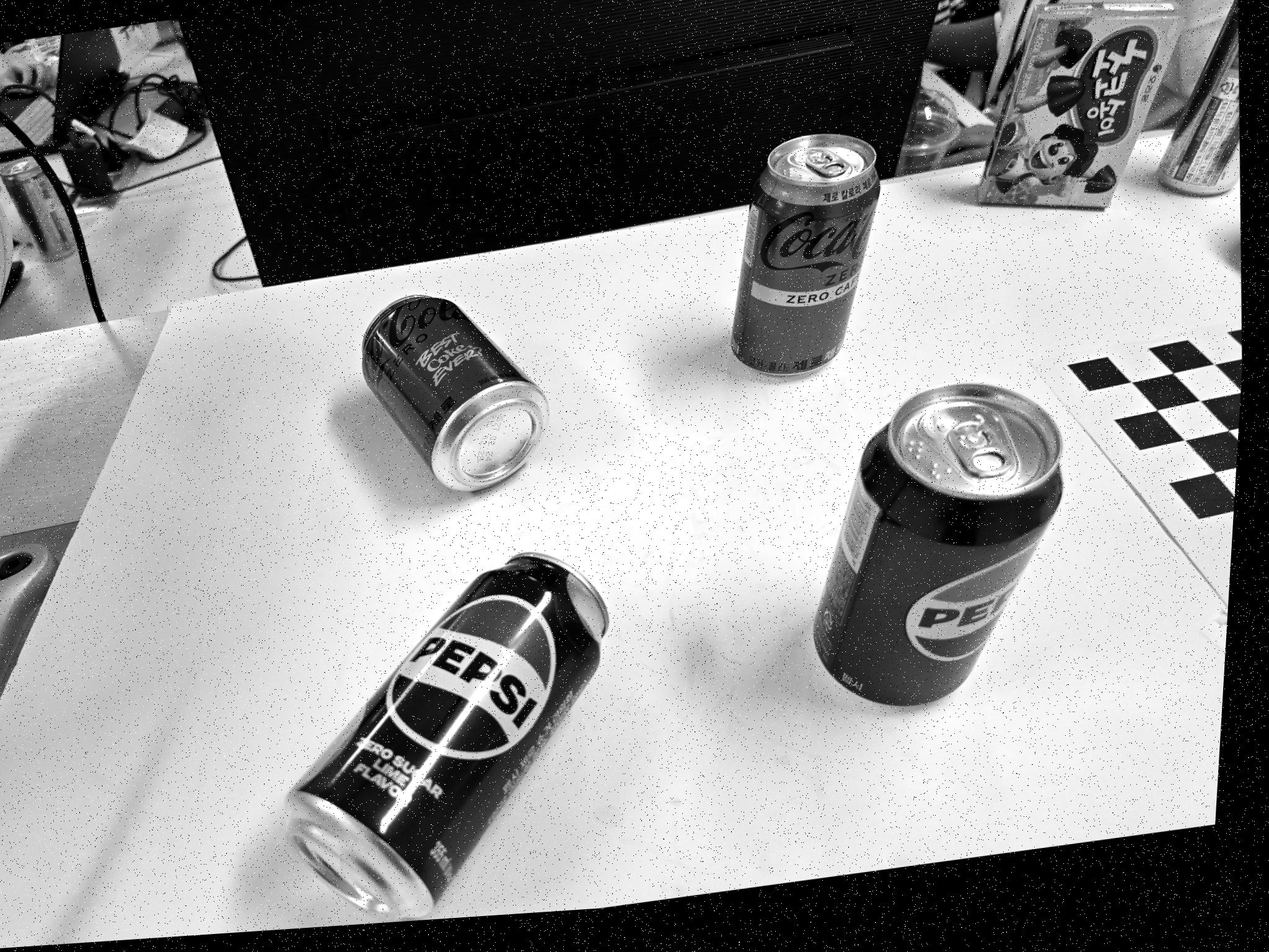can_coke_decaf: (731, 134, 880, 375)
can_coke_zero: (362, 295, 548, 491)
can_pepsi: (813, 383, 1062, 705)
can_pepsi_zero: (288, 553, 607, 919)
